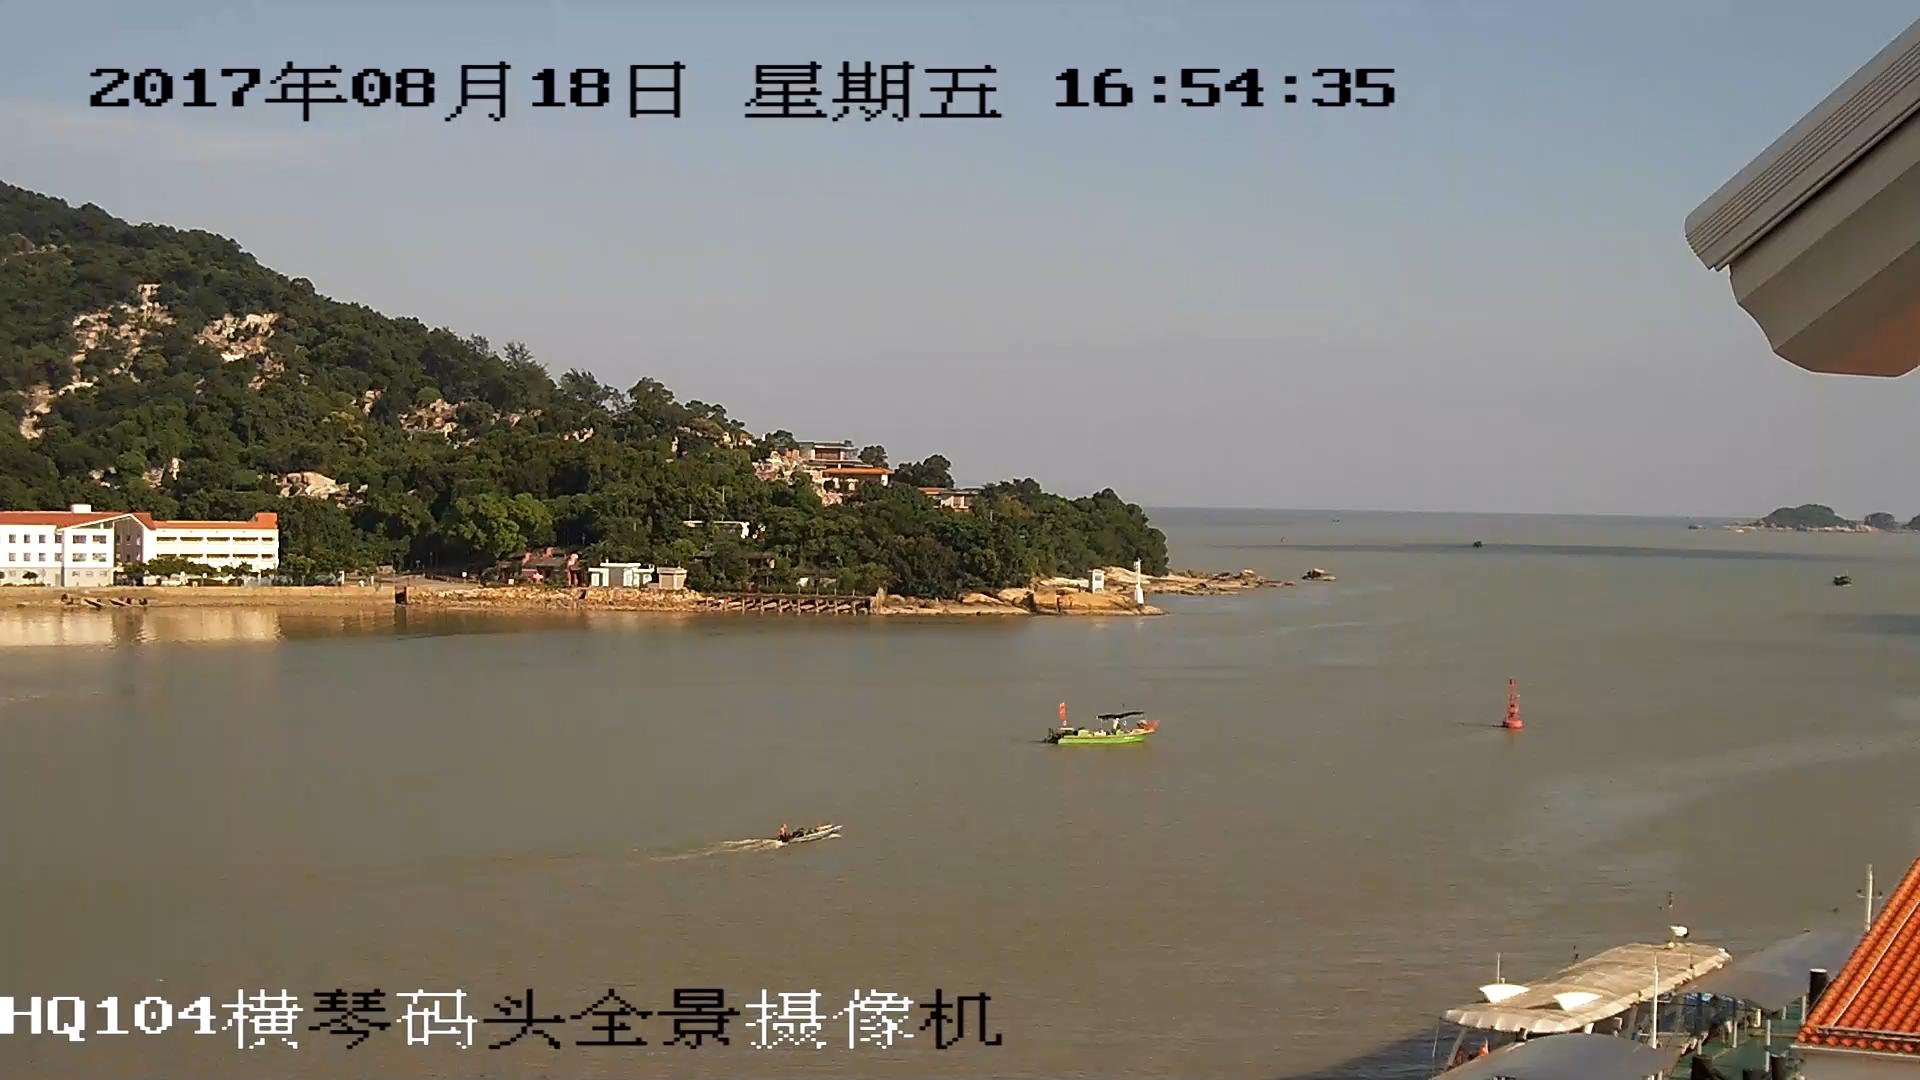fishing boat: (1048, 702, 1150, 747), (779, 820, 839, 842)
